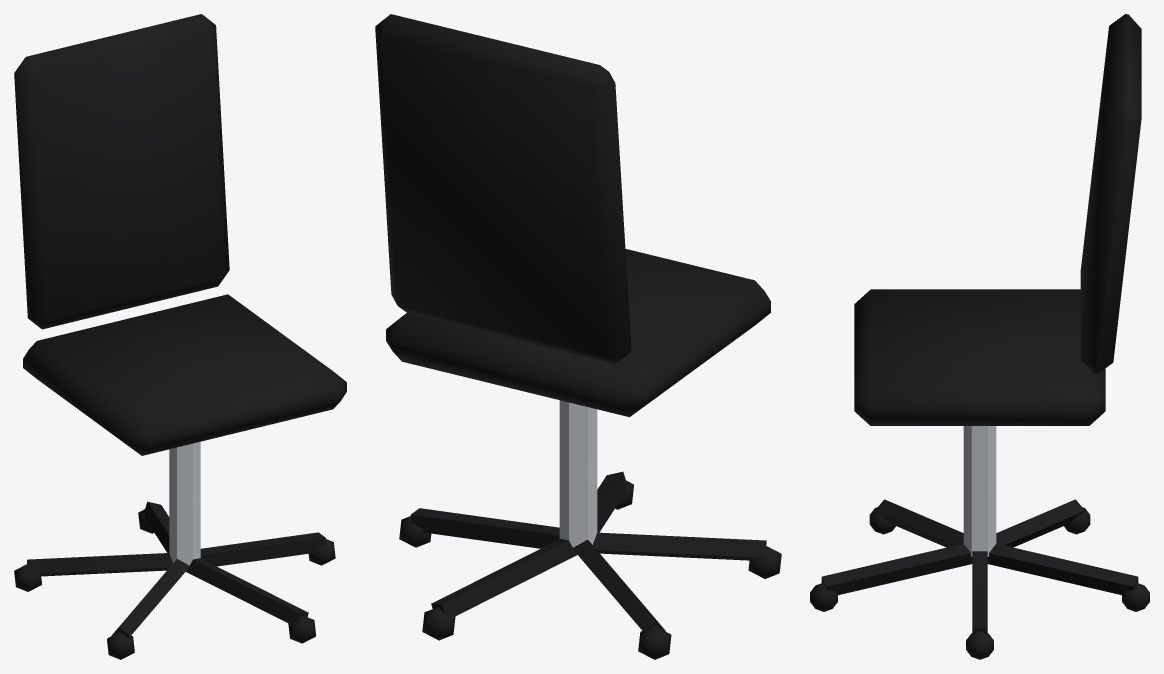
The model's file is cadeira_escritorio.glb.
The picture shows the model from 3 angles, left to right: view 1: azimuth 30°, elevation 25°; view 2: azimuth 150°, elevation 25°; view 3: azimuth 270°, elevation 25°; orthographic projection. The views are drawn at different scales.
Visible parts, largest first — view 1: Inteiro; view 2: Inteiro; view 3: Inteiro.
Part boxes in pixels (<box>): Inteiro: <box>14,14,346,659</box>; Inteiro: <box>375,14,781,659</box>; Inteiro: <box>810,14,1149,659</box>.
Size of the model in its own units: 0.5964 by 1.07 by 0.6217.
Materials: 1 (1 with a texture image).
